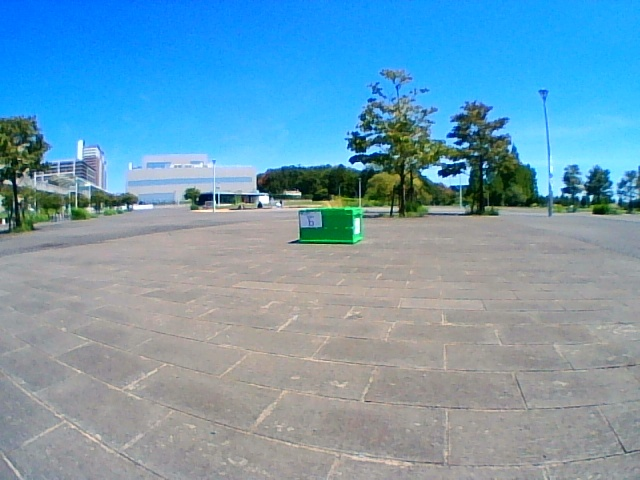green_box: (298, 208, 363, 244)
tag_b: (300, 212, 322, 227)
